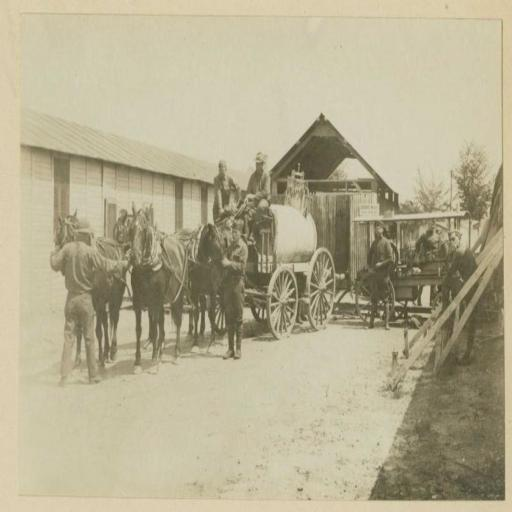horse: (54, 200, 128, 370), (130, 200, 188, 370), (186, 217, 224, 346)
